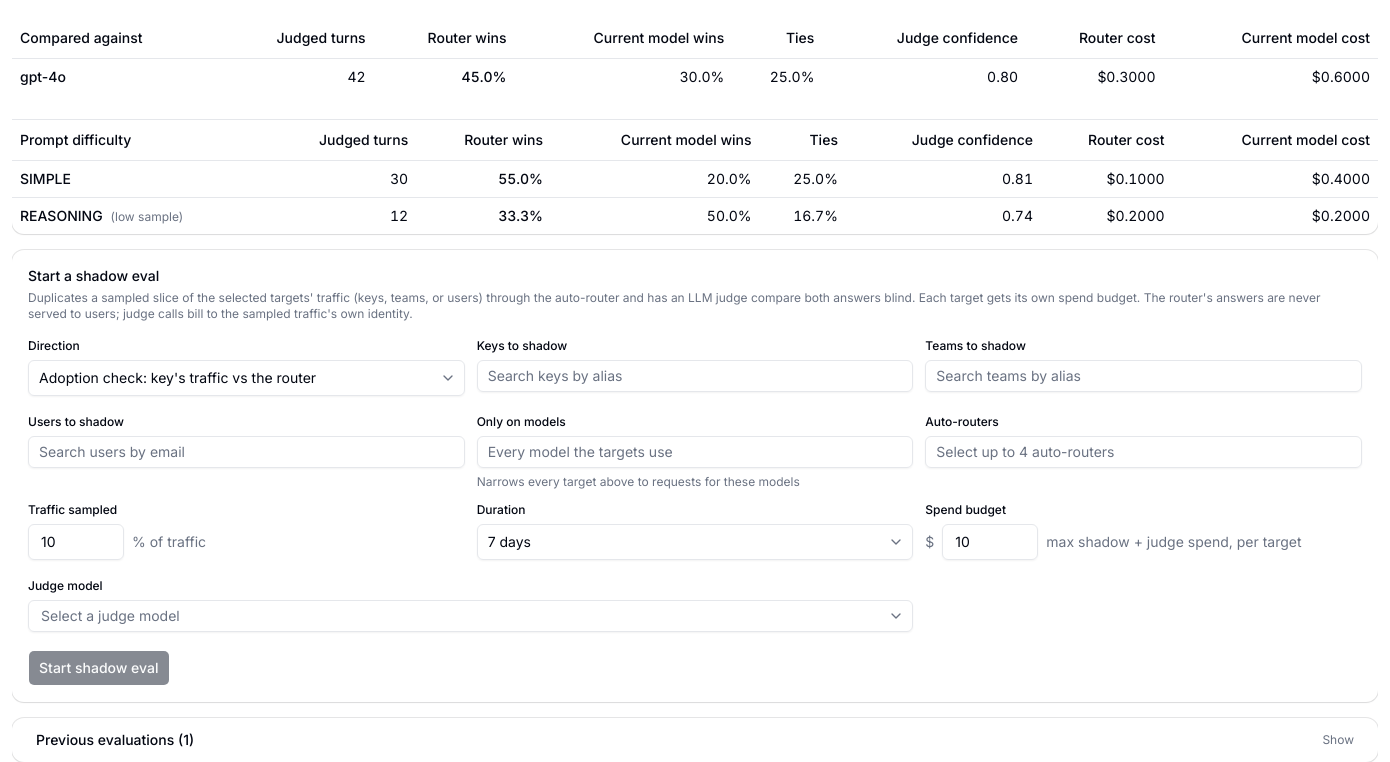
Test: ShadowEvalSection › never labels a collapsed previous eval as empty from a countless list row
(page scrolled)
Click the button "Previous evaluations (1) Show" at (115, 739), box [12, 718, 1378, 761]
(page scrolled)
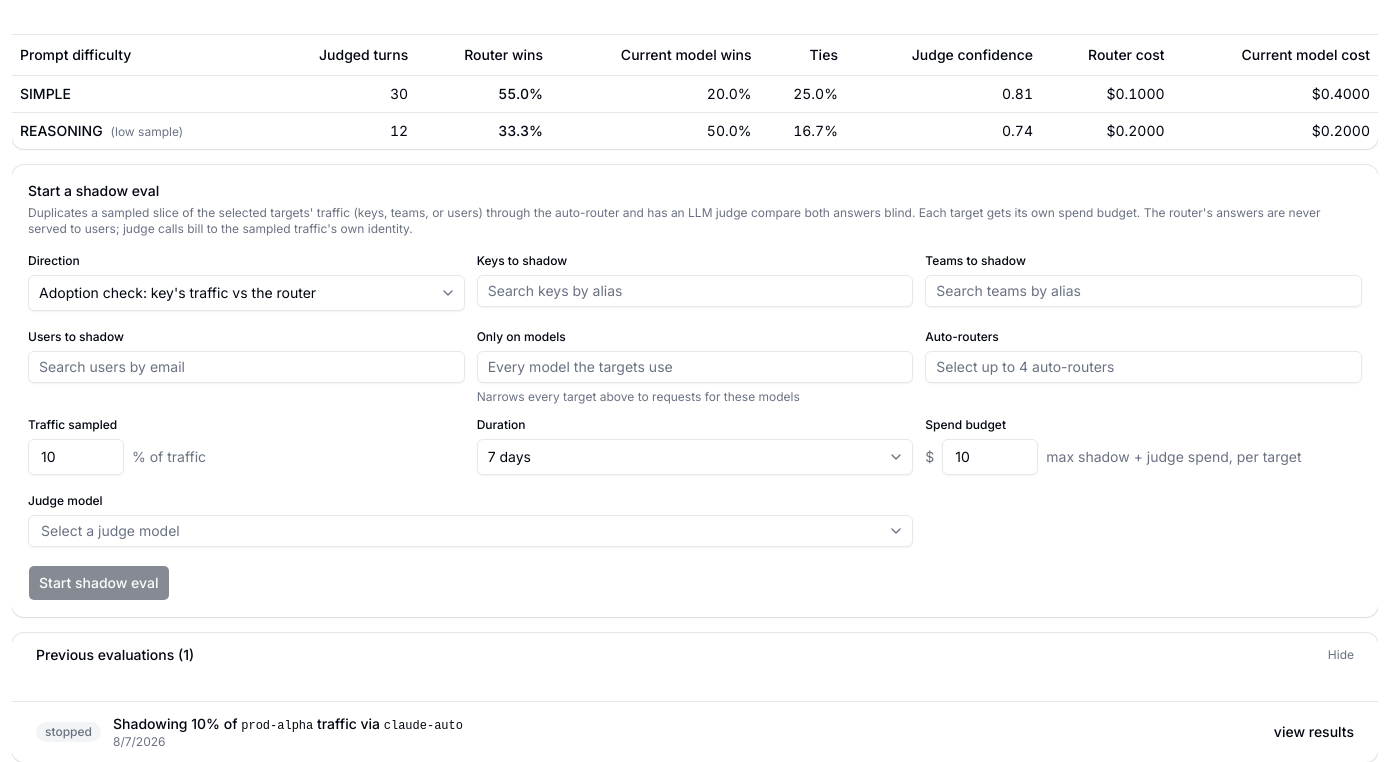
Expected: the text "view results" is shown, [1274, 722, 1354, 742]
